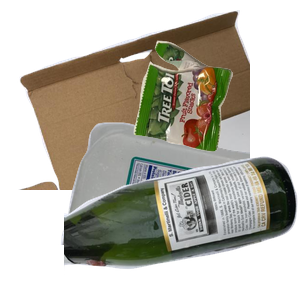cardboard: (16, 10, 256, 190)
glass: (64, 154, 300, 300)
plastic: (58, 120, 298, 300)
trash: (131, 38, 300, 182)
